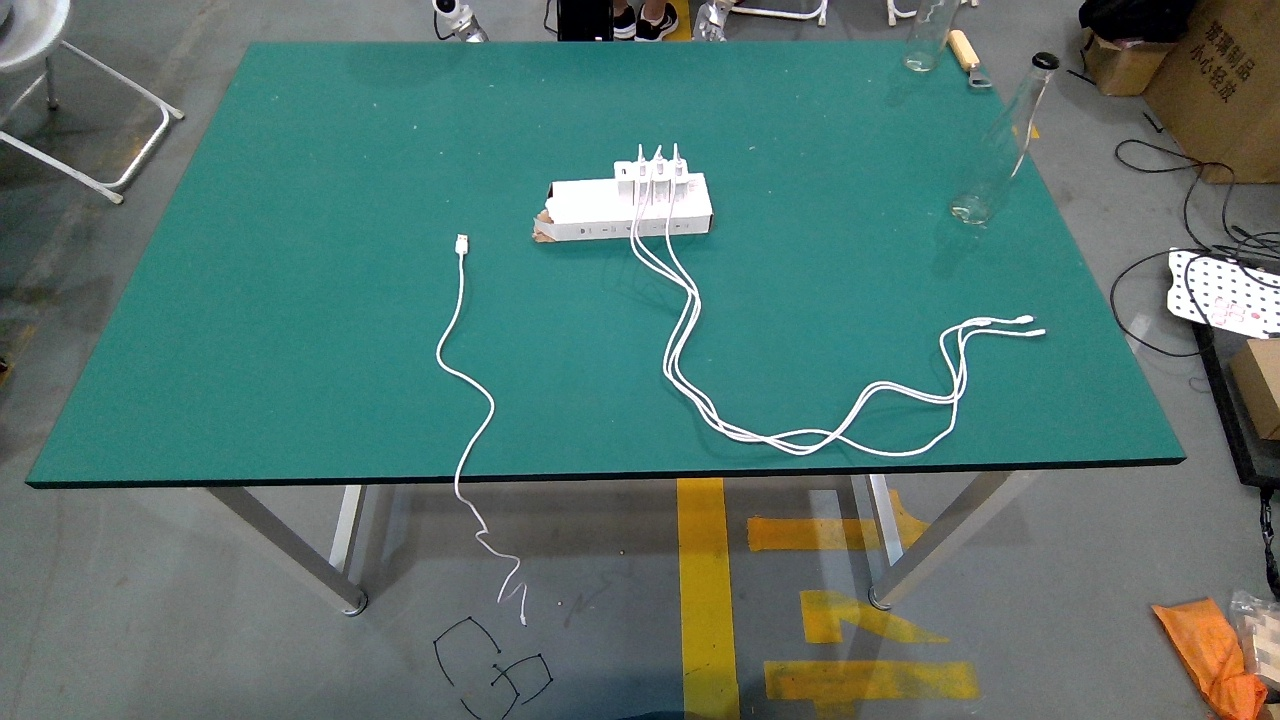usb_a_plug: (455, 233, 468, 261)
